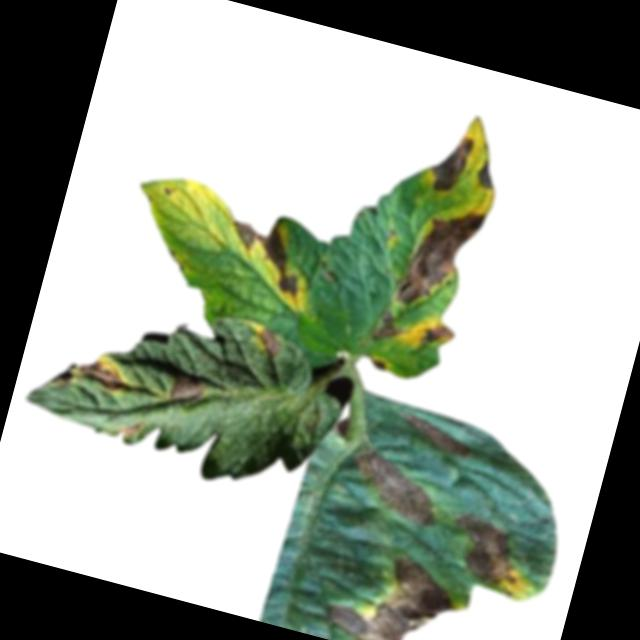Early_blight: (321, 543, 466, 640), (394, 199, 490, 321), (343, 446, 452, 532), (219, 211, 315, 301), (441, 510, 526, 593), (394, 410, 479, 463), (424, 130, 475, 200), (73, 352, 131, 399), (167, 371, 209, 409), (251, 326, 289, 363), (369, 308, 405, 347), (422, 321, 457, 353), (473, 157, 502, 191), (120, 419, 145, 443), (369, 356, 387, 374)
